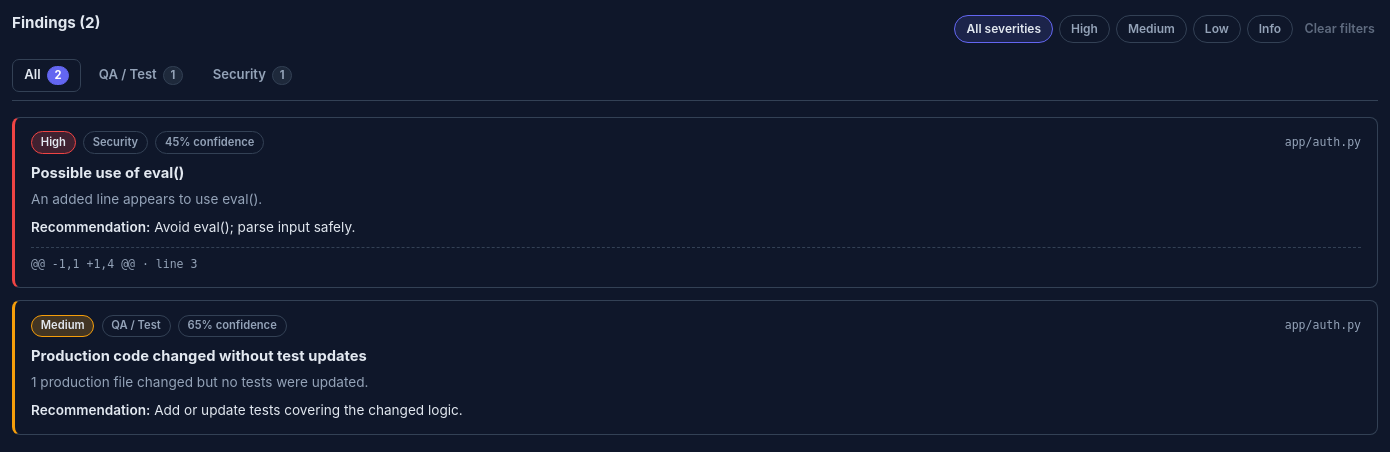
it: FindingsPanel filtering › filters by reviewer tab
Click the tab "Security 1".
click(252, 75)  # box x1=200 y1=59 x2=304 y2=92
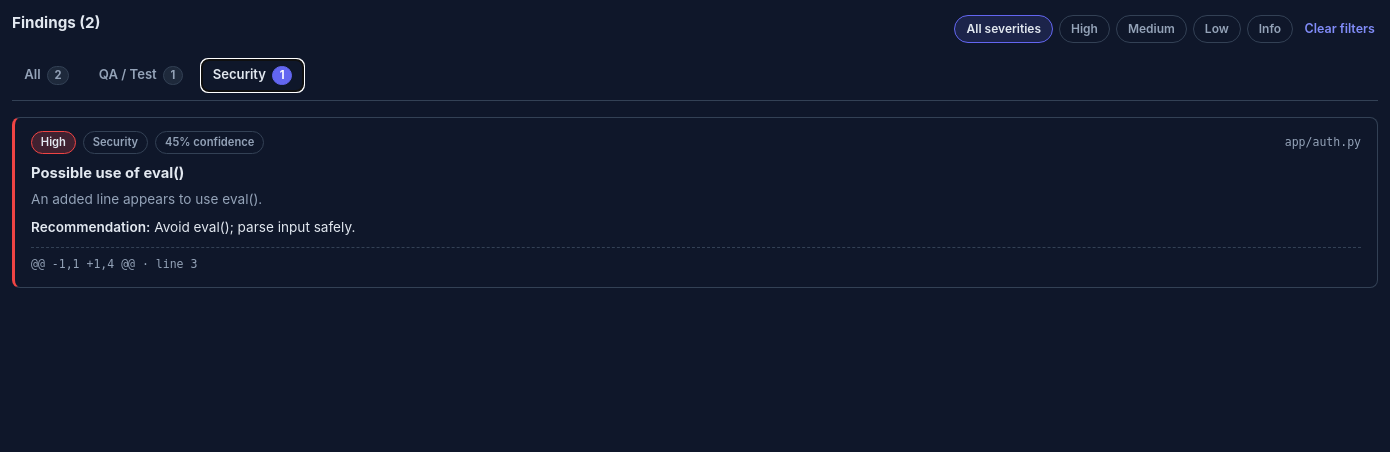
Expected: the heading "Possible use of eval()" is shown, x1=31 y1=164 x2=184 y2=182
Result: the heading "Production code changed without test updates" is gone
